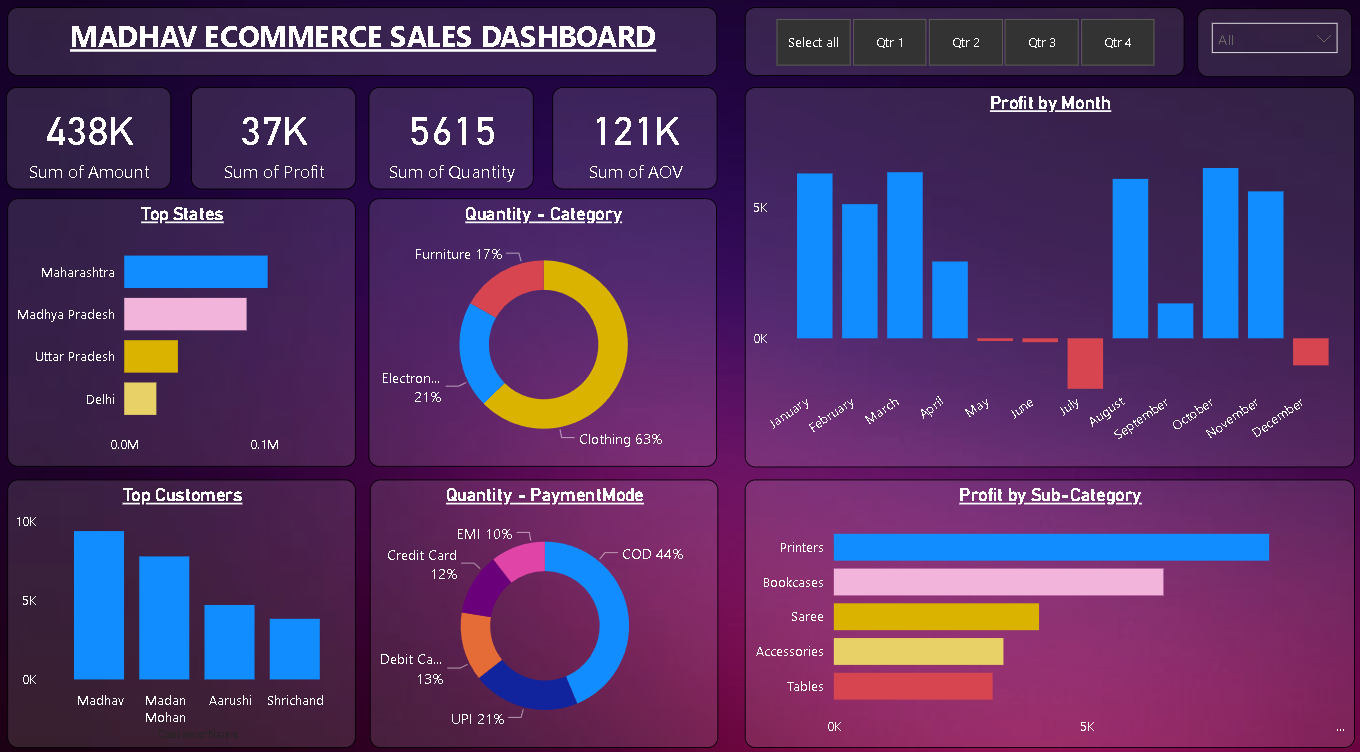

What the dashboard file says about the page in this screenshot:
{"tool":"powerbi","page":{"name":"Page 1","canvas":[1280,720],"ordinal":0},"visuals":[{"type":"textbox","box":[10.5,9.3,660,63.9],"z":0},{"type":"columnChart","title":"Profit by Month","fields":{"Category":["Orders.Order Date.Variation.Date Hierarchy.Month"],"Y":["Details.Profit"]},"box":[696,83.7,567,353.2],"z":1},{"type":"barChart","title":"Profit by Sub-Category","fields":{"Category":["Details.Sub-Category"],"Y":["Details.Profit"]},"box":[696,448.5,567,249.8],"z":2},{"type":"donutChart","title":"Quantity - Category","fields":{"Category":["Details.Category"],"Y":["Details.Quantity"]},"box":[346.3,187.1,324.2,249.8],"z":3},{"type":"donutChart","title":"Quantity - PaymentMode","fields":{"Category":["Details.PaymentMode"],"Y":["Details.Quantity"]},"box":[347.4,448.5,324.2,249.8],"z":4},{"type":"columnChart","title":"Top Customers","fields":{"Category":["Orders.CustomerName"],"Y":["Details.Amount"]},"box":[10.5,448.5,324.2,249.8],"z":5},{"type":"barChart","title":"Top States","fields":{"Category":["Orders.State"],"Y":["Details.Amount"]},"box":[10.5,187.1,324.2,249.8],"z":6},{"type":"card","fields":{"Values":["Details.Amount"]},"box":[9.3,83.7,153.4,95.3],"z":7},{"type":"card","fields":{"Values":["Details.Profit"]},"box":[181.3,83.7,153.4,95.3],"z":8},{"type":"card","fields":{"Values":["Details.Quantity"]},"box":[346.3,83.7,153.4,95.3],"z":9},{"type":"card","fields":{"Values":["Details.AOV"]},"box":[517.1,83.7,153.4,95.3],"z":10},{"type":"slicer","fields":{"Values":["Orders.Order Date.Variation.Date Hierarchy.Quarter"]},"box":[696,9.3,409,63.9],"z":11},{"type":"slicer","fields":{"Values":["Orders.State"]},"box":[1116.6,10.5,144.1,63.9],"z":12}]}

Visuals, with their boxes in screenshot pixels (x1, y1, x2, y2), scaled from the page's 1280x720 canvas onto the 1360x752 screenshot:
textbox: 11 10 712 76
"Profit by Month" columnChart: 740 87 1342 456
"Profit by Sub-Category" barChart: 740 468 1342 729
"Quantity - Category" donutChart: 368 195 712 456
"Quantity - PaymentMode" donutChart: 369 468 714 729
"Top Customers" columnChart: 11 468 356 729
"Top States" barChart: 11 195 356 456
card - Details.Amount: 10 87 173 187
card - Details.Profit: 193 87 356 187
card - Details.Quantity: 368 87 531 187
card - Details.AOV: 549 87 712 187
slicer - Orders.Order Date.Variation.Date Hierarchy.Quarter: 740 10 1174 76
slicer - Orders.State: 1186 11 1339 78
